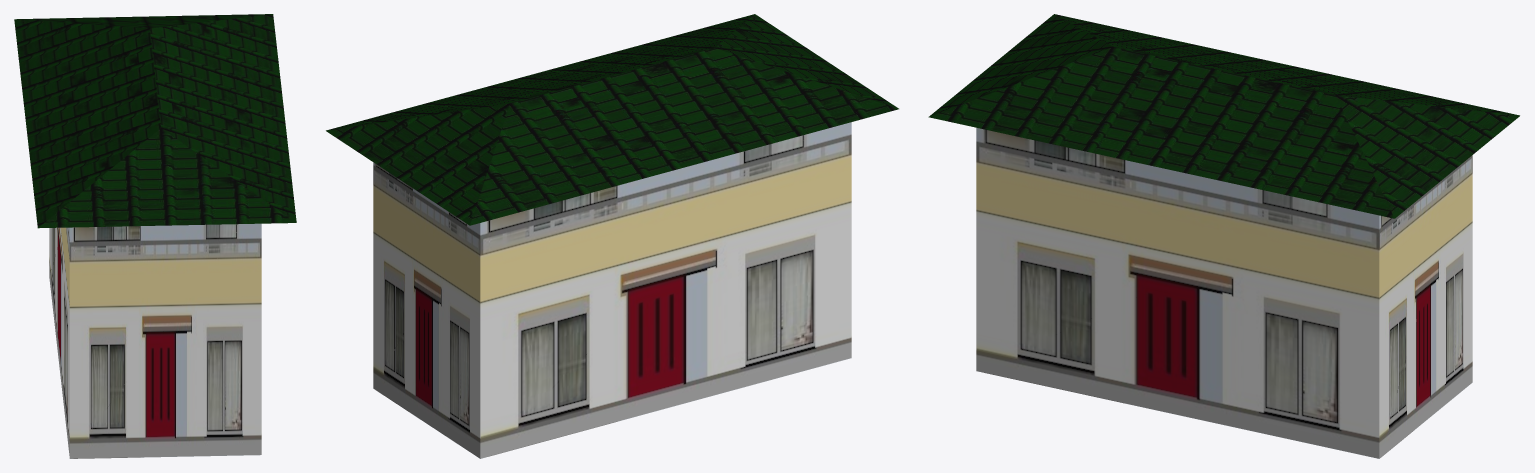
3 renders of one model, left to right at view 1: azimuth 30°, elevation 25°; view 2: azimuth 150°, elevation 25°; view 3: azimuth 270°, elevation 25°, orthographic. The views are drawn at different scales.
Parts seen in each view (by area): view 1: CityEngineMaterial_13_m, CityEngineMaterial_15_m; view 2: CityEngineMaterial_15_m, CityEngineMaterial_13_m; view 3: CityEngineMaterial_15_m, CityEngineMaterial_13_m.
Boxes of the visible parts, x1,y1,x2,y2 form: CityEngineMaterial_13_m: [14, 14, 296, 228]; CityEngineMaterial_15_m: [49, 223, 261, 458]; CityEngineMaterial_15_m: [373, 122, 851, 458]; CityEngineMaterial_13_m: [326, 14, 898, 225]; CityEngineMaterial_15_m: [976, 127, 1472, 458]; CityEngineMaterial_13_m: [928, 14, 1519, 218].
Size of the model in its own units: 12.77 by 8.89 by 15.6.
